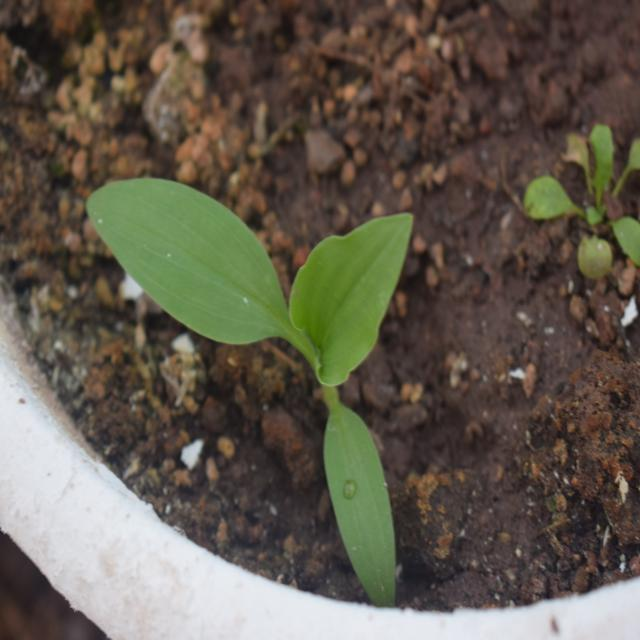Common Dayflower: (90, 177, 436, 589)
